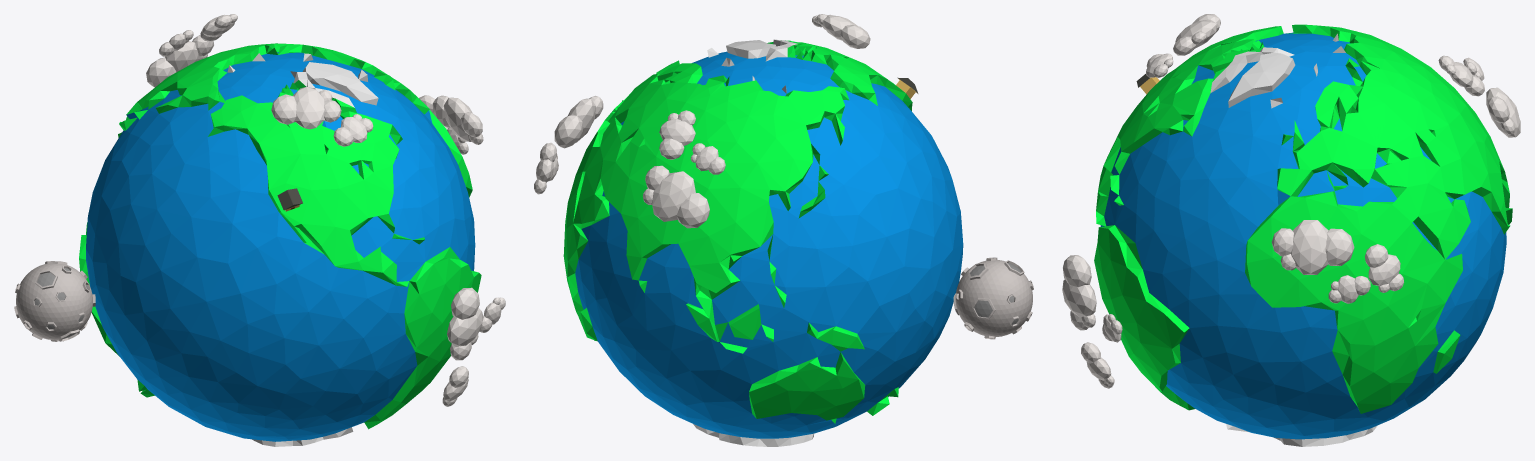
File: earth.glb
3 views of the same model, side by side, from view 1: azimuth 30°, elevation 25°; view 2: azimuth 150°, elevation 25°; view 3: azimuth 270°, elevation 25° (orthographic). The views are drawn at different scales.
Parts seen in each view (by area): view 1: Sphere.001, Icosphere.001, Icosphere.010, Icosphere, Icosphere.004, Icosphere.007, Icosphere.011, Icosphere.003, Icosphere.009, Icosphere.002; view 2: Sphere.001, Icosphere.001, Icosphere.007, Icosphere.004, Icosphere.009, Icosphere.010, Icosphere.008, Icosphere.006; view 3: Sphere.001, Icosphere.004, Icosphere, Icosphere.006, Icosphere.007, Icosphere.010, Icosphere.005, Icosphere.009, Icosphere.003, Icosphere.011, Icosphere.002.
Part boxes in pixels (x1,y1,x2,y2): Sphere.001: [79, 43, 481, 446]; Icosphere.001: [14, 261, 95, 341]; Icosphere.010: [271, 87, 341, 129]; Icosphere: [447, 287, 483, 360]; Icosphere.004: [432, 95, 483, 144]; Icosphere.007: [146, 34, 213, 87]; Icosphere.011: [333, 114, 373, 146]; Icosphere.003: [442, 366, 468, 406]; Icosphere.009: [200, 14, 237, 41]; Icosphere.002: [479, 297, 505, 332]; Sphere.001: [563, 39, 963, 446]; Icosphere.001: [953, 257, 1033, 339]; Icosphere.007: [643, 165, 709, 228]; Icosphere.004: [554, 95, 603, 148]; Icosphere.009: [659, 110, 695, 159]; Icosphere.010: [816, 14, 870, 48]; Icosphere.008: [690, 143, 725, 174]; Icosphere.006: [534, 142, 556, 194]; Sphere.001: [1094, 24, 1512, 446]; Icosphere.004: [1271, 220, 1354, 274]; Icosphere: [1062, 255, 1096, 330]; Icosphere.006: [1365, 244, 1403, 292]; Icosphere.007: [1486, 87, 1520, 137]; Icosphere.010: [1173, 14, 1220, 55]; Icosphere.005: [1328, 275, 1370, 303]; Icosphere.009: [1438, 55, 1484, 96]; Icosphere.003: [1081, 342, 1114, 388]; Icosphere.011: [1146, 53, 1173, 77]; Icosphere.002: [1102, 314, 1122, 342].
Size of the model in its own units: 2.73 by 2.15 by 2.25.
